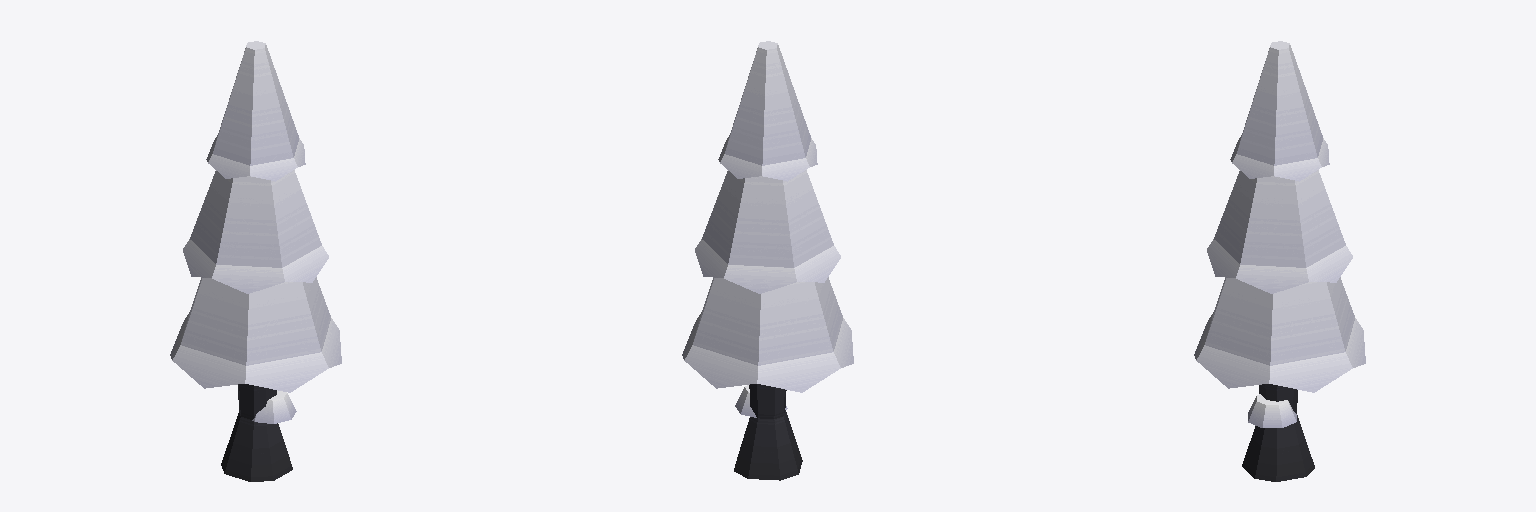
3 views of the same model, side by side, from view 1: azimuth 30°, elevation 25°; view 2: azimuth 150°, elevation 25°; view 3: azimuth 270°, elevation 25° (orthographic).
Visible parts, largest first — view 1: tree.048; view 2: tree.048; view 3: tree.048.
Part boxes in pixels (x1,y1,x2,y2): tree.048: (170,41,341,481); tree.048: (682,41,853,480); tree.048: (1194,41,1365,481).
Size of the model in its own units: 1.35 by 3.47 by 1.29.
1 materials, 1 textured.